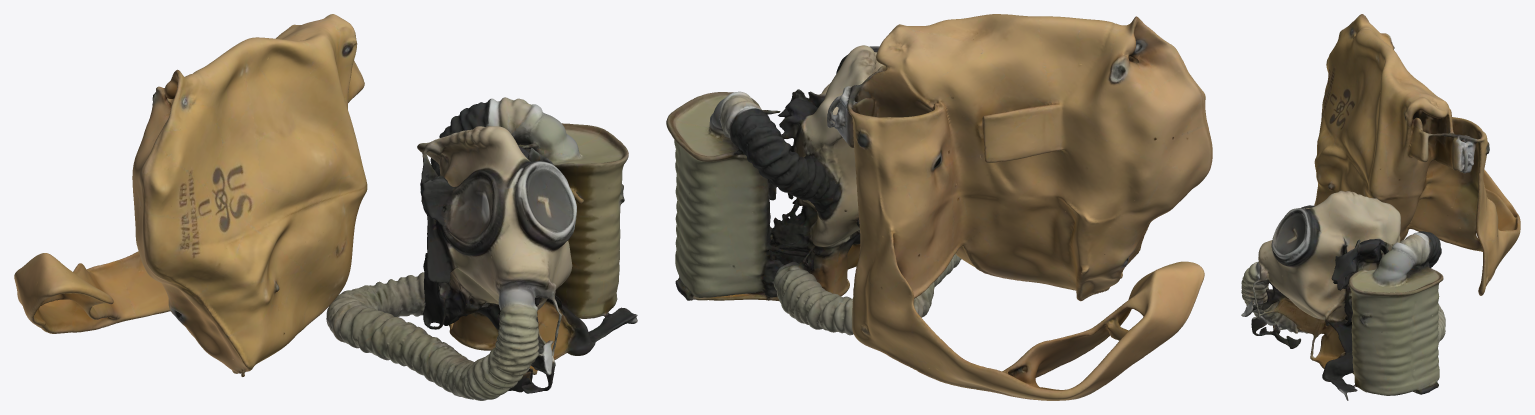
Rendered from Gask Mask.glb.
3 renders of one model, left to right at view 1: azimuth 30°, elevation 25°; view 2: azimuth 150°, elevation 25°; view 3: azimuth 270°, elevation 25°, orthographic. The views are drawn at different scales.
Bounding box in the file's own units: 2 × 1.23 × 1.28.
1 material, 1 textured.
